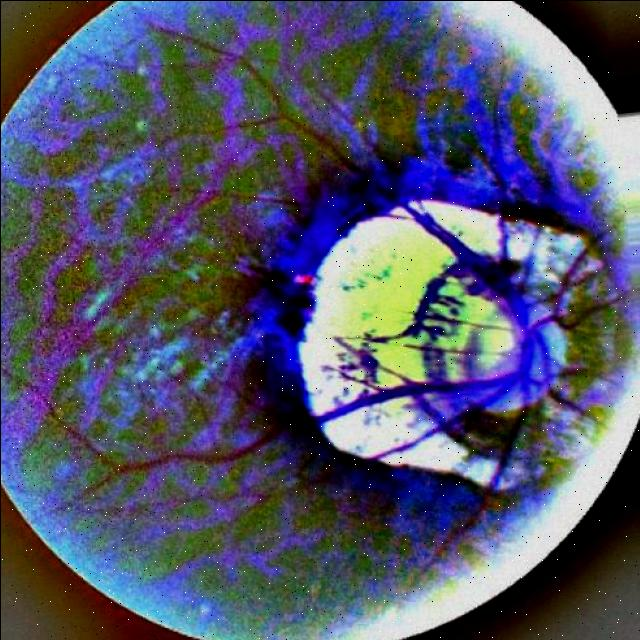Nerves: (35, 378, 494, 516), (198, 59, 390, 201), (412, 213, 542, 381)
Optic Disk: (293, 195, 601, 489)
